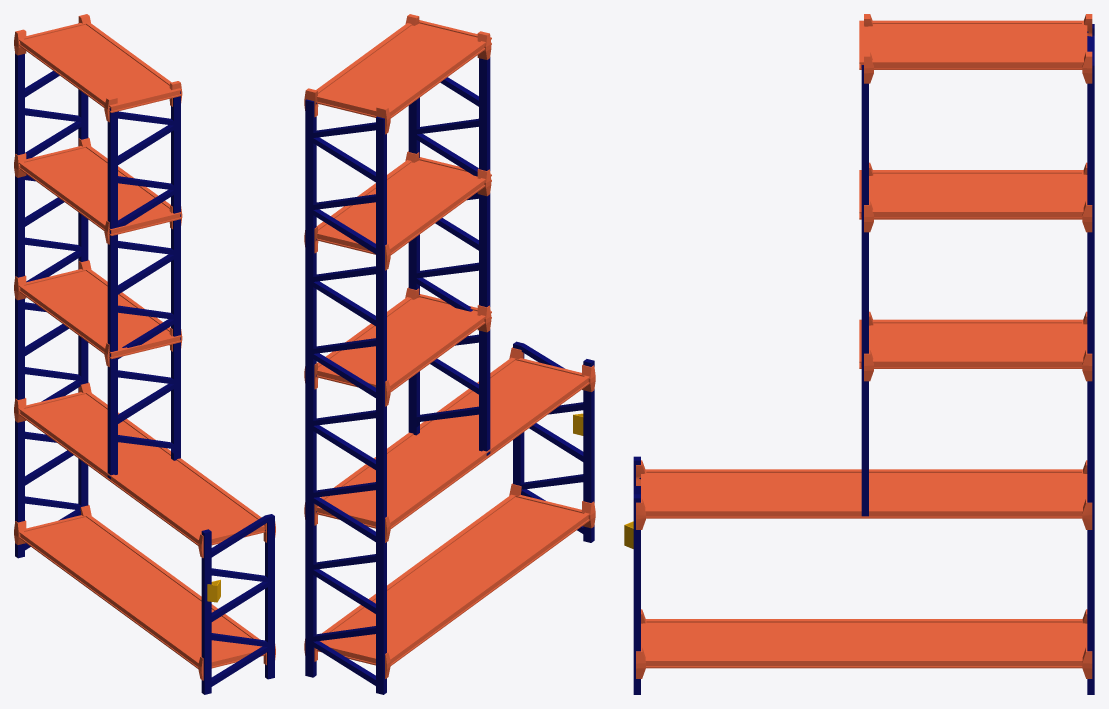
File: WareHouse-Rack-Low-1.glb
3 renders of one model, left to right at view 1: azimuth 30°, elevation 25°; view 2: azimuth 150°, elevation 25°; view 3: azimuth 270°, elevation 25°, orthographic. The views are drawn at different scales.
Visible parts, largest first — view 1: Plane.838, RackSide, ShelfHolder.001; view 2: Plane.838, RackSide, ShelfHolder.001; view 3: Plane.838, RackSide, ShelfHolder.001.
Part boxes in pixels (x1=…): Plane.838: x1=19, y1=22, x2=264, y2=668; RackSide: x1=15, y1=53, x2=274, y2=694; ShelfHolder.001: x1=14, y1=14, x2=275, y2=680; Plane.838: x1=316, y1=20, x2=589, y2=665; RackSide: x1=305, y1=57, x2=594, y2=694; ShelfHolder.001: x1=304, y1=14, x2=595, y2=678; Plane.838: x1=641, y1=20, x2=1087, y2=668; RackSide: x1=633, y1=24, x2=1094, y2=694; ShelfHolder.001: x1=636, y1=14, x2=1092, y2=678.
Size of the model in its own units: 2.11 by 14.22 by 9.49.
